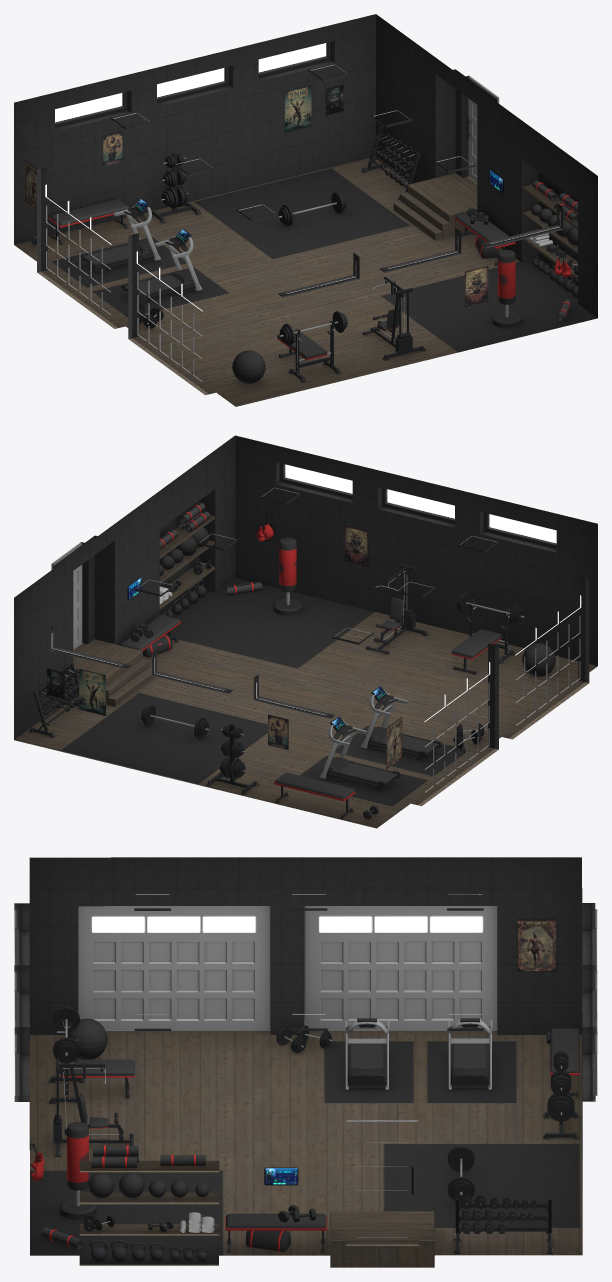
File: Gym.gltf
3 renders of one model, top to bottom at view 1: azimuth 30°, elevation 25°; view 2: azimuth 150°, elevation 25°; view 3: azimuth 270°, elevation 25°, orthographic. The views are drawn at different scales.
Parts seen in each view (by area): view 1: Cube.001, Cube.021, Cube.017, garage_door, Cube.022, Cube.002, Cube.011, Cylinder.005, Cube.005, Cube.007, Cube.009, Cube.006 (+10 smaller); view 2: Cube.001, Cube.021, Cube.017, Cube.002, garage_door, Cube.022, Cube.011, Cube.009, Cube.005, Cylinder.005, Cube.007, Cube.006 (+12 smaller); view 3: Cube.001, garage_door, Cube.009, Cube.017, Cube.022, Cube.002, Cube.021, Plane.010, Cylinder.005, Cube.011, Cube.020, Cube.007 (+11 smaller).
Part boxes in pixels (x1,y1,x2,y2): Cube.001: (14,14,597,406); Cube.021: (55,42,560,293); Cube.017: (393,173,477,240); garage_door: (45,184,202,381); Cube.022: (121,229,202,302); Cube.002: (80,198,160,272); Cube.011: (362,276,425,360); Cylinder.005: (492,250,521,327); Cube.005: (277,320,340,382); Cube.007: (151,152,200,223); Cube.009: (522,184,577,279); Cube.006: (48,199,129,244); Cube.001: (14,435,597,828); Cube.021: (51,463,556,715); Cube.017: (73,639,156,706); Cube.002: (319,716,400,790); garage_door: (424,595,581,792); Cube.022: (360,686,441,760); Cube.011: (365,563,428,654); Cube.009: (159,515,214,609); Cube.005: (451,599,515,674); Cylinder.005: (273,537,302,615); Cube.007: (206,724,258,794); Cube.006: (273,772,355,818); Cube.001: (14,857,595,1267); garage_door: (78,906,497,1030); Cube.009: (79,1160,219,1235); Cube.017: (330,1211,434,1240); Cube.022: (344,1018,389,1089); Cube.002: (447,1018,492,1089); Cube.021: (14,909,597,1095); Plane.010: (517,919,556,971); Cylinder.005: (59,1122,96,1219); Cube.011: (53,1059,133,1156); Cube.020: (225,1213,326,1252); Cube.007: (543,1051,578,1139).
Size of the model in its own units: 11.11 by 3.8 by 11.21.
3 materials, 3 textured.
